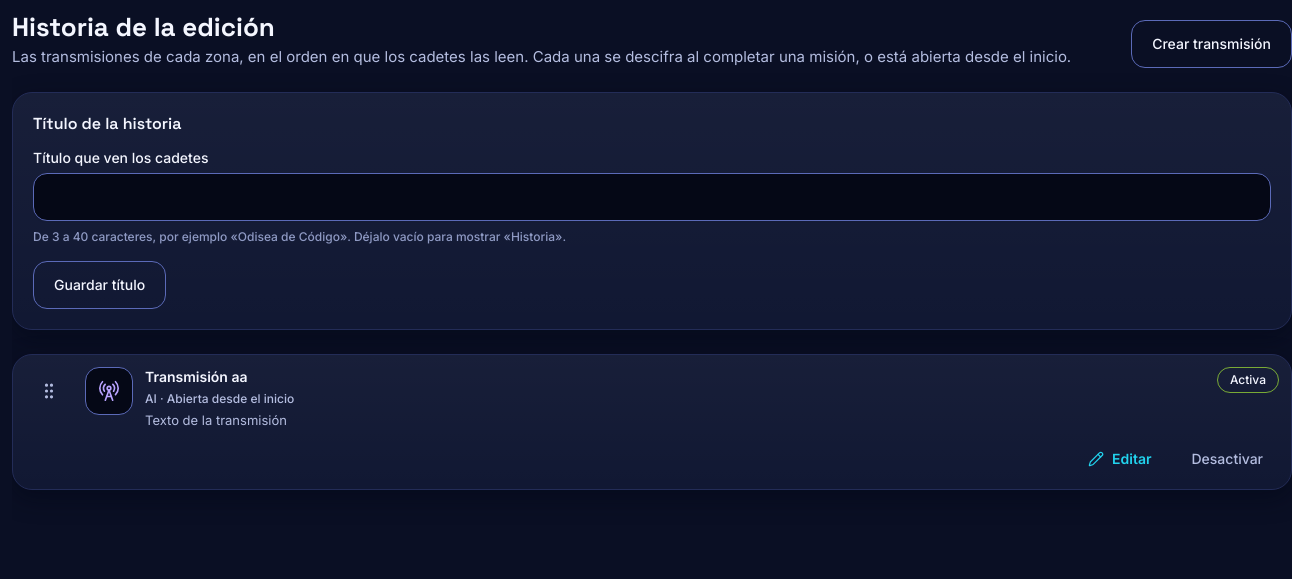
Test: CommunicationsAdminView › explains a refused title
The image size is (1292, 579).
Type "ab" into the field labelled "Título que ven los cadetes".
click(652, 197); type("ab")  # box [33,173,1271,221]
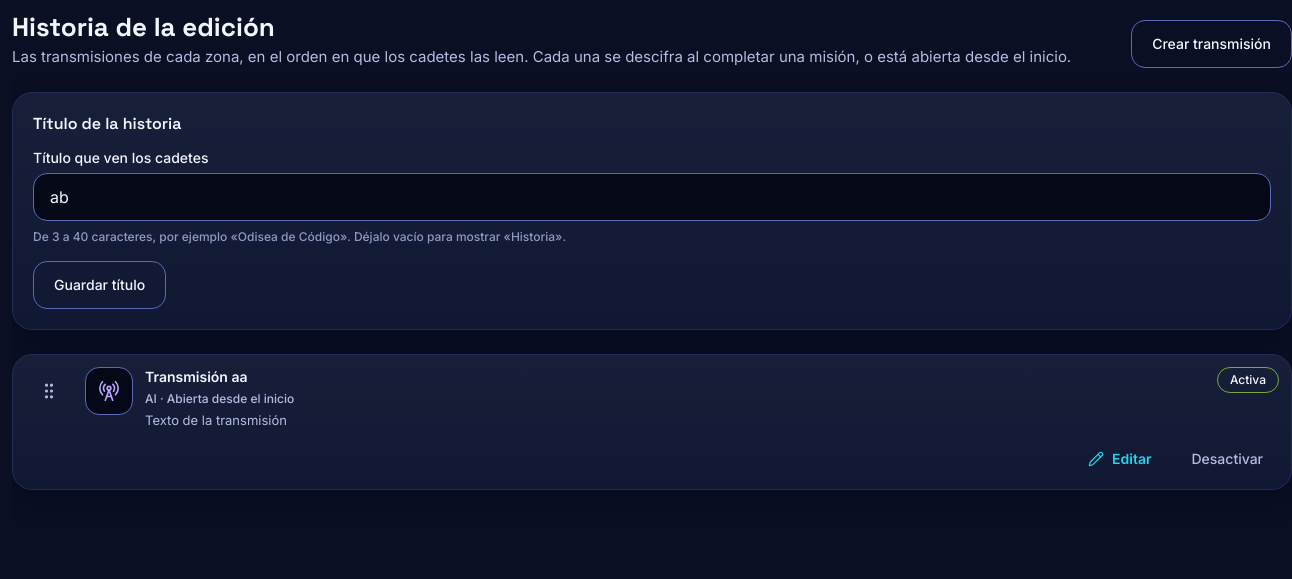
Click the button "Guardar título".
click(100, 285)  # box [33,261,166,309]
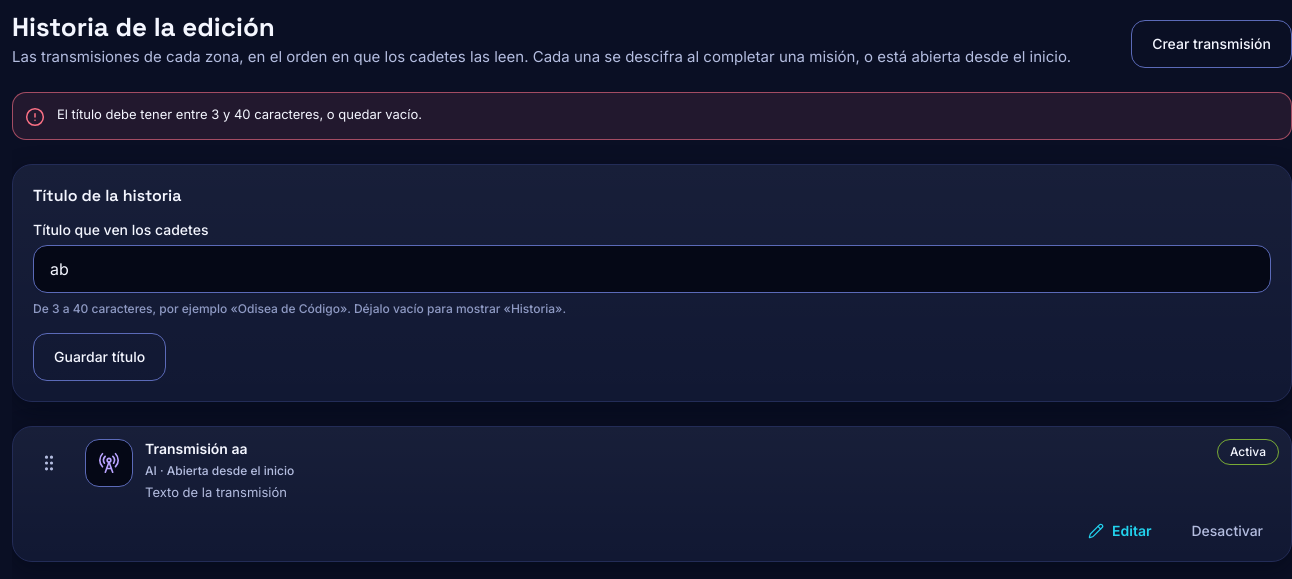
Expected: the message reads "El título debe tener entre 3 y 40 caracteres, o quedar vacío.", [57,106,422,122]
